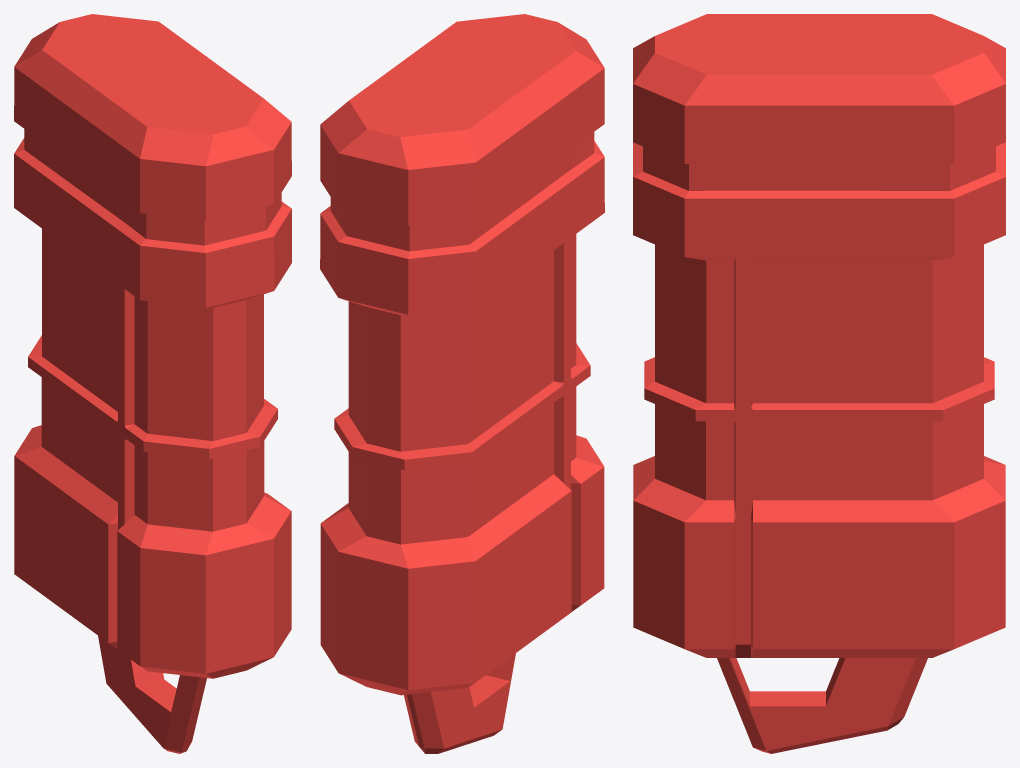
The model's file is part_magazine_02.fbx.
3 views of the same model, side by side, from view 1: azimuth 30°, elevation 25°; view 2: azimuth 150°, elevation 25°; view 3: azimuth 270°, elevation 25° (orthographic). The views are drawn at different scales.
Parts seen in each view (by area): view 1: part_magazine_02; view 2: part_magazine_02; view 3: part_magazine_02.
Part boxes in pixels (x1,y1,x2,y2): part_magazine_02: (14, 14, 291, 753); part_magazine_02: (320, 14, 604, 753); part_magazine_02: (633, 14, 1005, 753).
Size of the model in its own units: 4.56 by 18.96 by 9.06.
